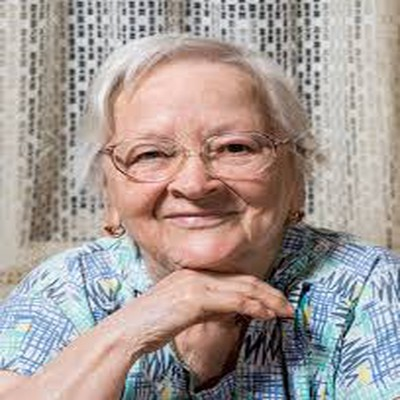eywear: (102, 118, 323, 210)
